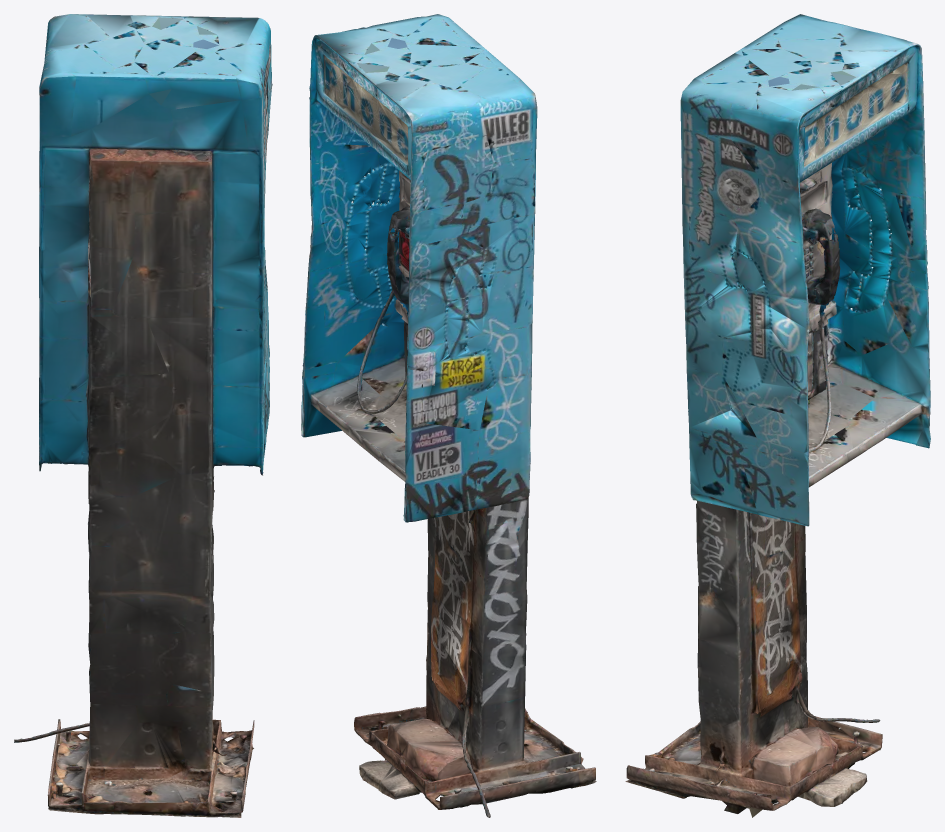
Rendered from pay-phone.glb.
3 renders of one model, left to right at view 1: azimuth 30°, elevation 25°; view 2: azimuth 150°, elevation 25°; view 3: azimuth 270°, elevation 25°, orthographic.
Visible parts, largest first — view 1: default; view 2: default; view 3: default.
Part boxes in pixels (box(x1,y1,x2,y2)): default: box(14, 14, 272, 817); default: box(301, 14, 596, 817); default: box(625, 14, 930, 817).
Bounding box in the file's own units: 0.8314 × 2.2 × 0.8421.
Materials: 1 (1 with a texture image).
